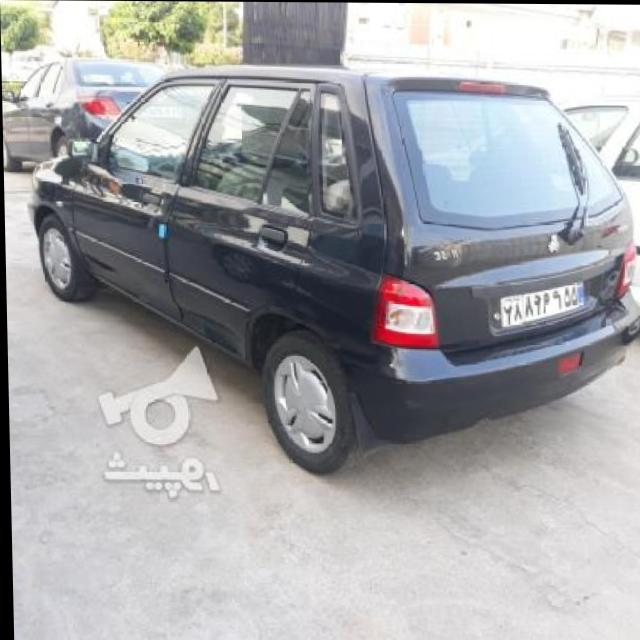licence: (502, 277, 587, 326)
